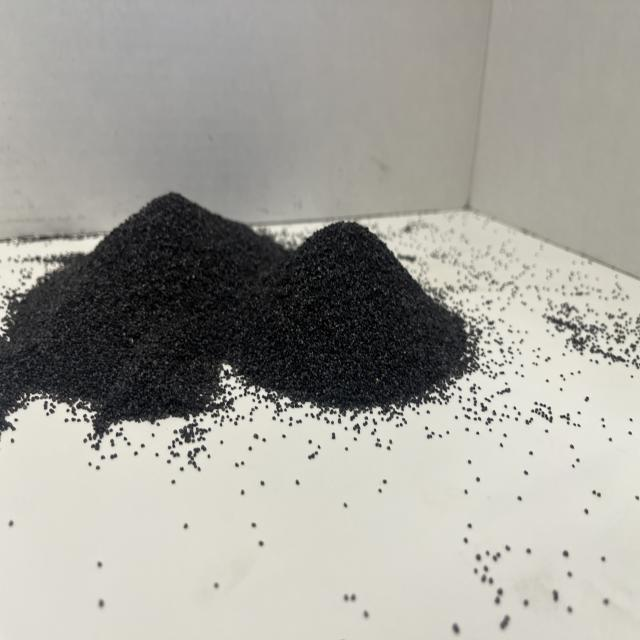Poppy Seeds: (11, 166, 488, 478)
